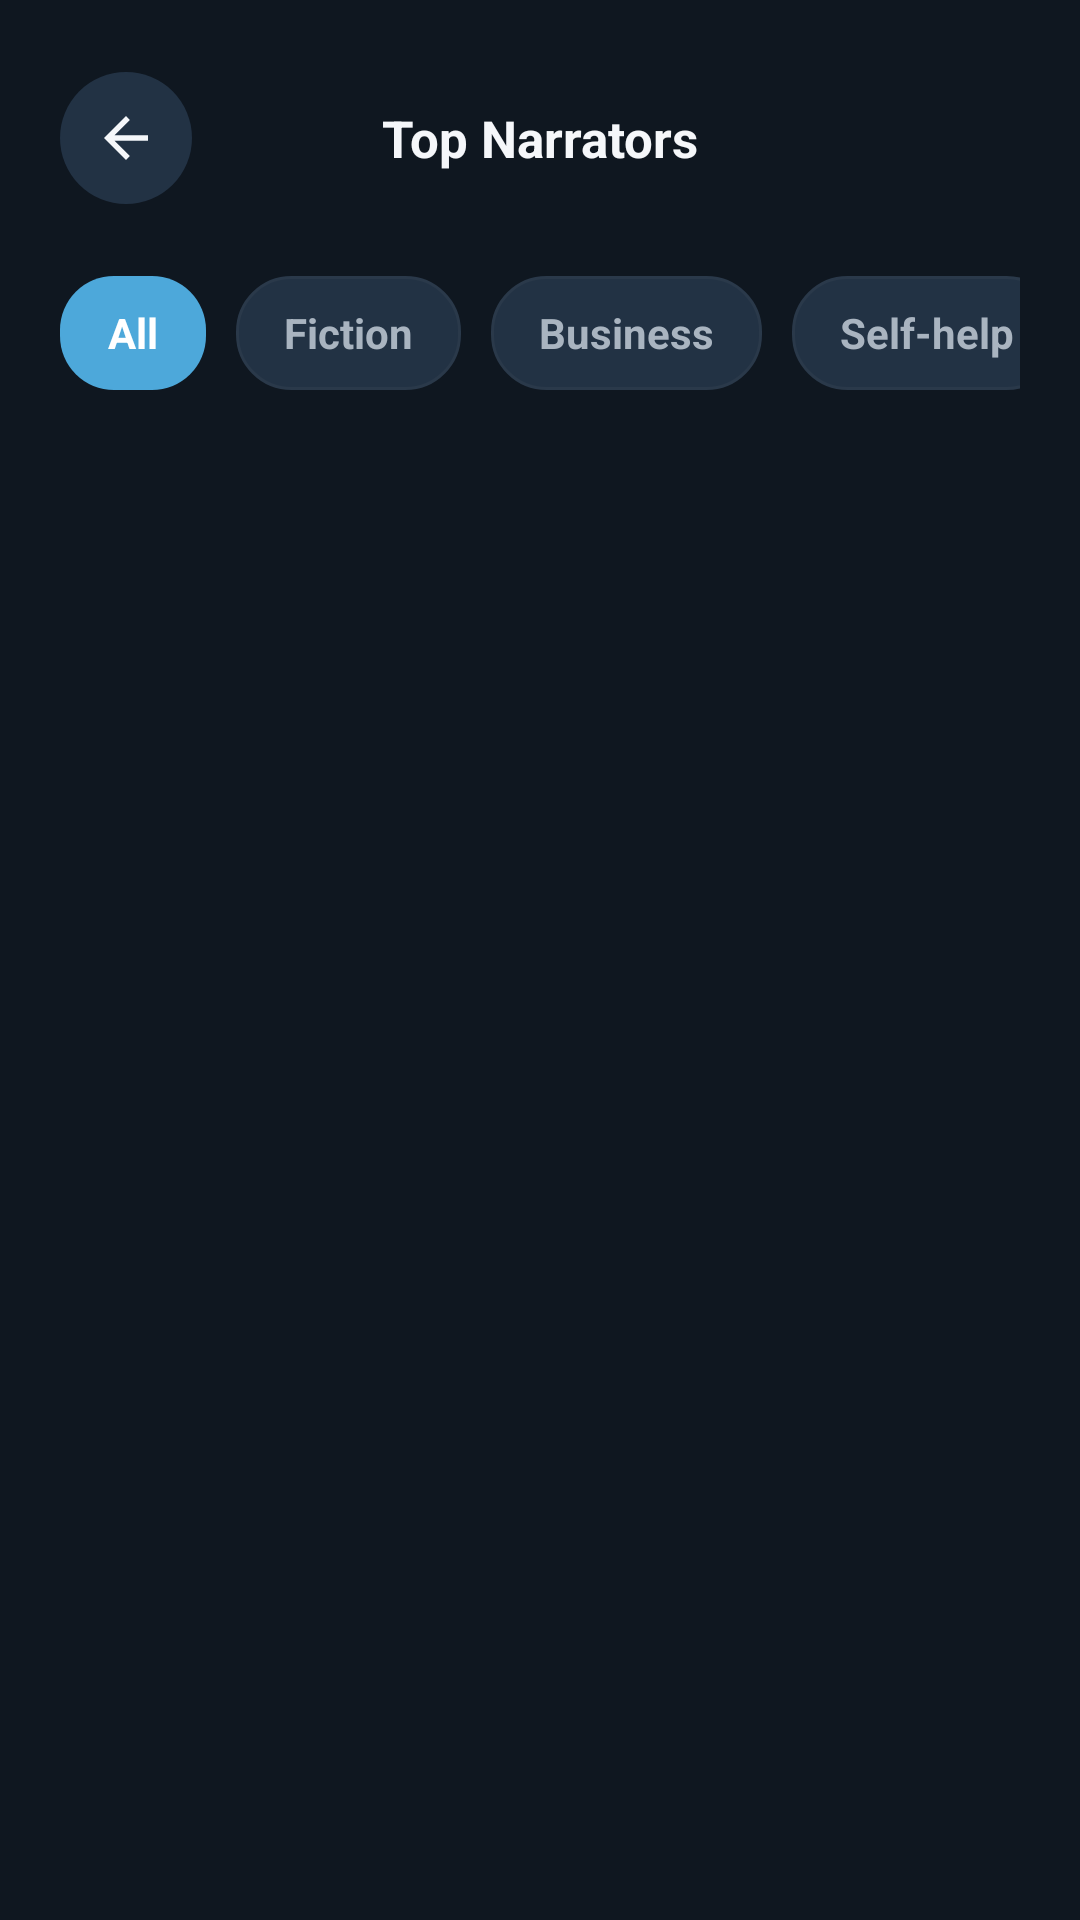

Where icons sit on this 1080×1920 app screen, as detection(x1, y1, x2, y2):
Back: detection(60, 72, 192, 204)
